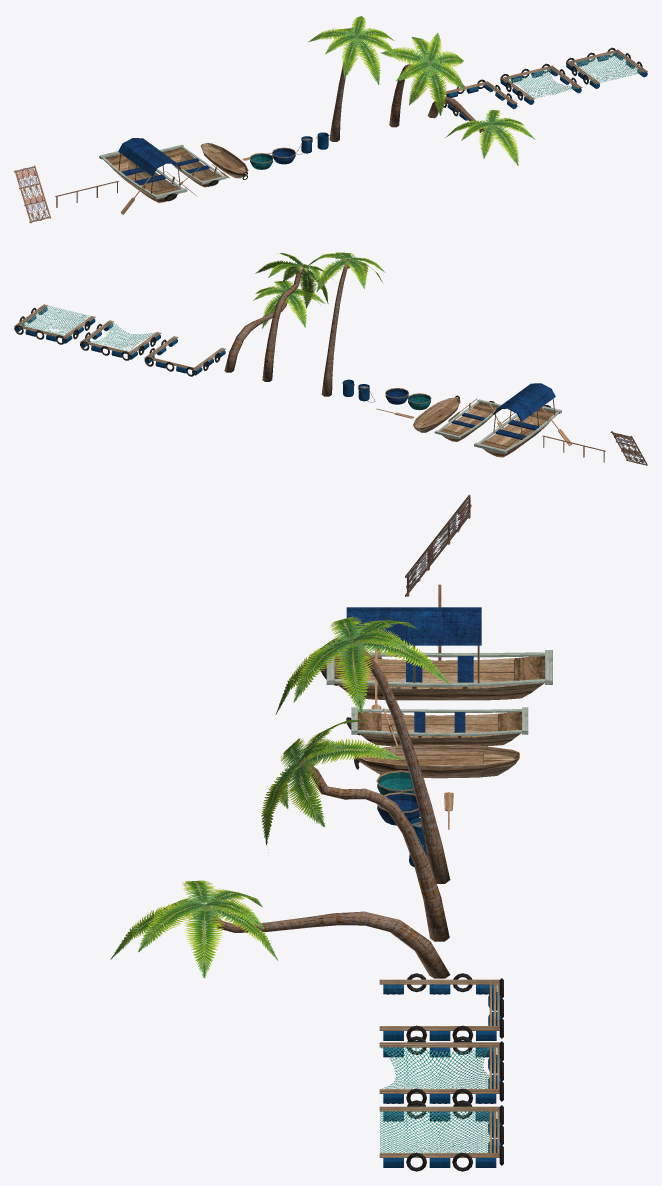
File: LangChai.fbx
3 renders of one model, top to bottom at view 1: azimuth 30°, elevation 25°; view 2: azimuth 150°, elevation 25°; view 3: azimuth 270°, elevation 25°, orthographic. The views are drawn at different scales.
Visible parts, largest first — view 1: CayDuaNga, ThuyenDanhCa, CayDuaCao, CayDuaThap, BeCoHaiSan, BeNhiuHaiSan, ThuyenCheo, TamPhoiCa, PhoiThuyen, BeHaiSan, Sphere.011, Sphere.013; view 2: ThuyenDanhCa, CayDuaNga, CayDuaCao, BeCoHaiSan, CayDuaThap, BeNhiuHaiSan, ThuyenCheo, BeHaiSan, PhoiThuyen, TamPhoiCa, Sphere.011, Sphere.013; view 3: ThuyenDanhCa, CayDuaThap, CayDuaCao, CayDuaNga, BeCoHaiSan, BeNhiuHaiSan, ThuyenCheo, PhoiThuyen, BeHaiSan, TamPhoiCa.
Boxes of the visible parts, bbox=[...] form: CayDuaNga: bbox=[381, 33, 465, 127]; ThuyenDanhCa: bbox=[99, 138, 196, 214]; CayDuaCao: bbox=[308, 16, 398, 141]; CayDuaThap: bbox=[427, 96, 535, 165]; BeCoHaiSan: bbox=[566, 47, 647, 88]; BeNhiuHaiSan: bbox=[500, 63, 582, 104]; ThuyenCheo: bbox=[159, 144, 229, 187]; TamPhoiCa: bbox=[14, 165, 50, 223]; PhoiThuyen: bbox=[200, 143, 248, 179]; BeHaiSan: bbox=[443, 79, 517, 120]; Sphere.011: bbox=[272, 147, 295, 164]; Sphere.013: bbox=[249, 153, 273, 169]; ThuyenDanhCa: bbox=[474, 383, 571, 457]; CayDuaNga: bbox=[255, 253, 333, 381]; CayDuaCao: bbox=[306, 252, 385, 396]; BeCoHaiSan: bbox=[14, 304, 95, 344]; CayDuaThap: bbox=[224, 280, 325, 372]; BeNhiuHaiSan: bbox=[79, 320, 161, 360]; ThuyenCheo: bbox=[434, 398, 503, 441]; BeHaiSan: bbox=[144, 336, 225, 376]; PhoiThuyen: bbox=[413, 395, 460, 432]; TamPhoiCa: bbox=[610, 431, 647, 465]; Sphere.011: bbox=[385, 388, 408, 404]; Sphere.013: bbox=[407, 393, 431, 410]; ThuyenDanhCa: bbox=[320, 607, 552, 713]; CayDuaThap: bbox=[110, 880, 450, 978]; CayDuaCao: bbox=[275, 616, 450, 883]; CayDuaNga: bbox=[261, 719, 449, 941]; BeCoHaiSan: bbox=[379, 1100, 503, 1171]; BeNhiuHaiSan: bbox=[379, 1036, 503, 1106]; ThuyenCheo: bbox=[346, 697, 528, 746]; PhoiThuyen: bbox=[354, 745, 519, 778]; BeHaiSan: bbox=[379, 973, 503, 1042]; TamPhoiCa: bbox=[405, 494, 471, 596].
Size of the model in its own units: 5717 by 1201 by 1796.
Materials: 7 (7 with a texture image).
